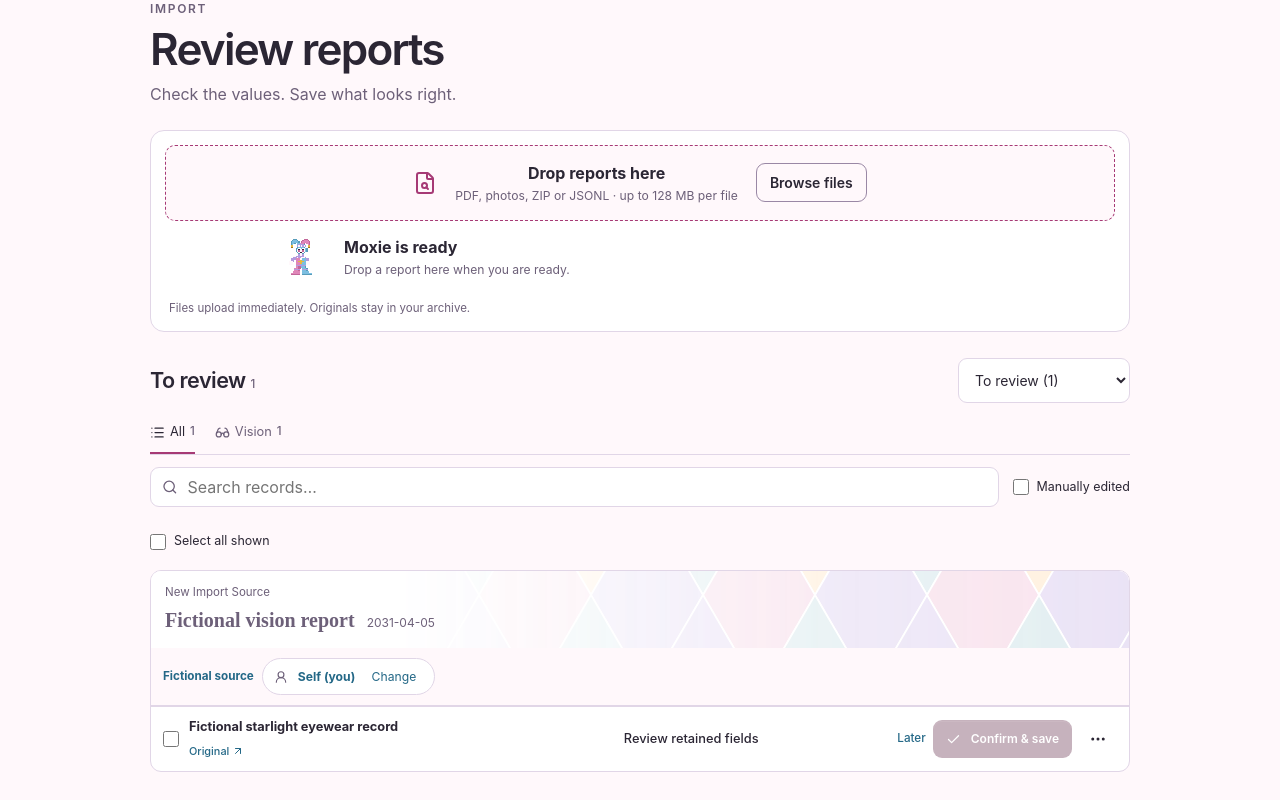
Test case: labels detail actions as record review and keeps their exact full-review destination
The image size is (1280, 800).
Step 1. Click the button named "More actions for Fictional starlight eyewear record" → (1098, 739), box x1=1079 y1=720 x2=1117 y2=758
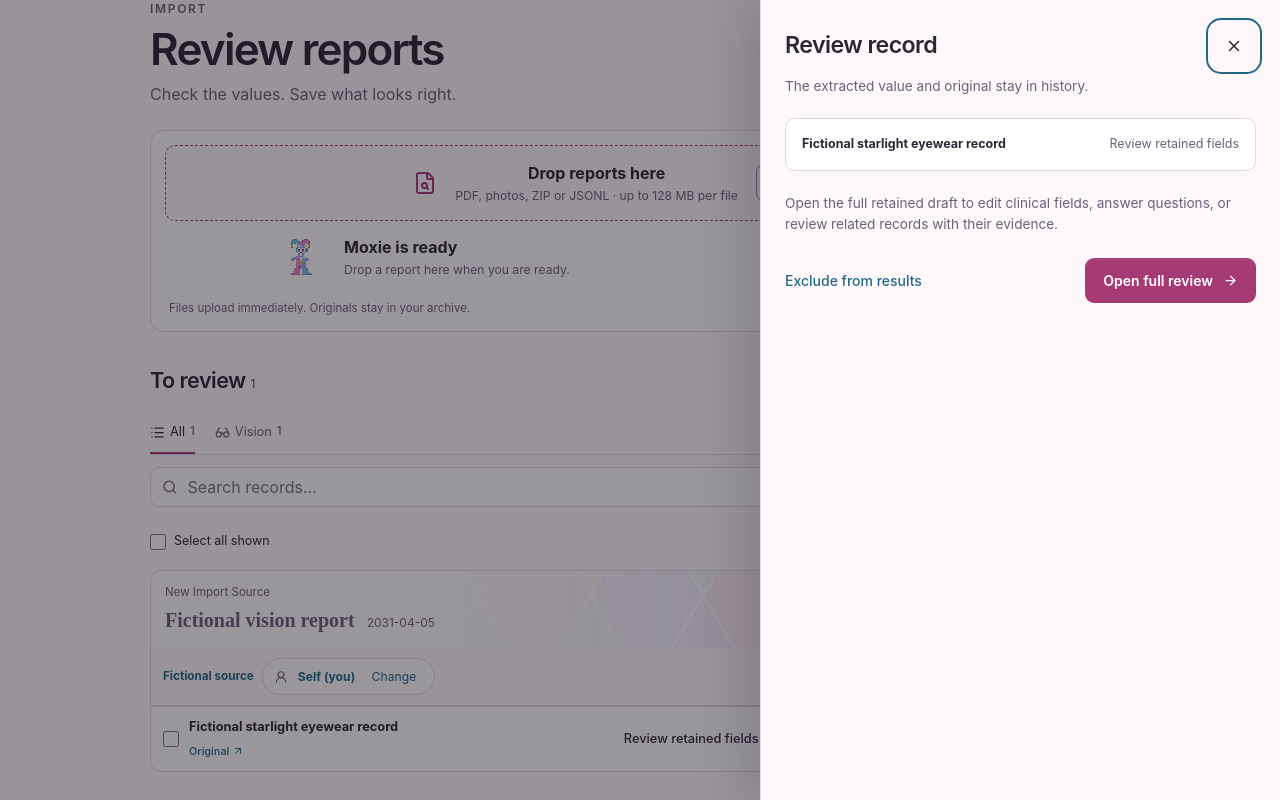
expect the button "Exclude from results" is shown: met, box x1=785 y1=258 x2=922 y2=303
